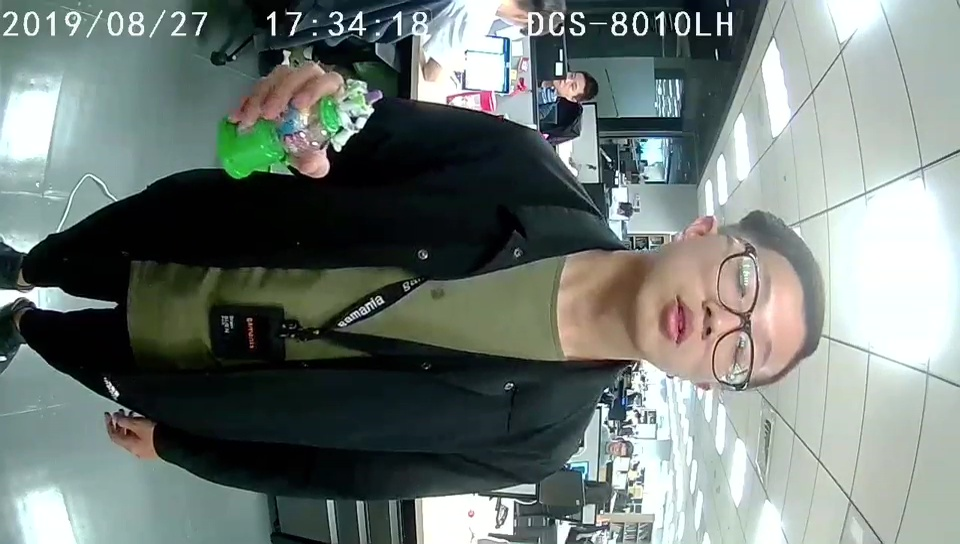buzz: (208, 76, 385, 184)
